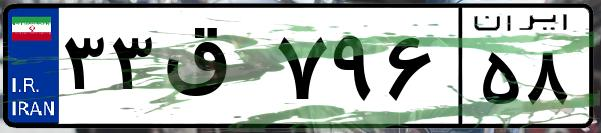3: (57, 26, 110, 100), (110, 28, 158, 98)
5: (475, 38, 525, 113)
6: (385, 28, 445, 110)
7: (270, 28, 330, 110)
8: (525, 38, 570, 115)
9: (330, 28, 385, 110)
ق: (158, 20, 270, 120)
